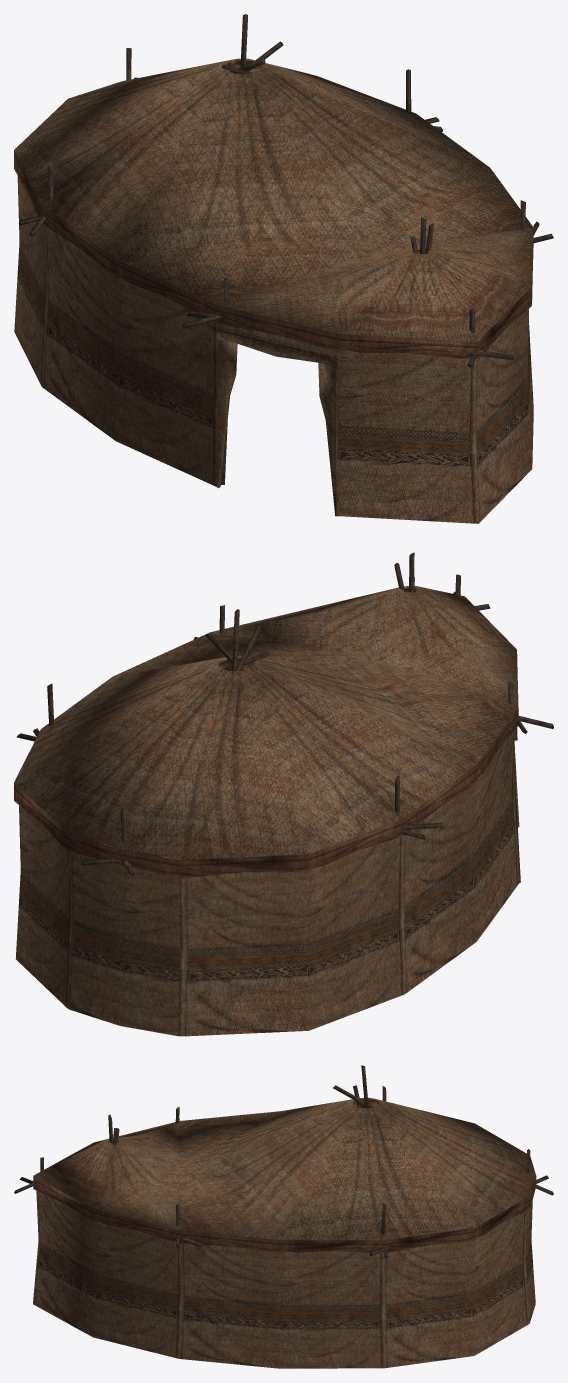
File: GS_VARANT_TENT_03_GALI.glb
3 renders of one model, top to bottom at view 1: azimuth 30°, elevation 25°; view 2: azimuth 150°, elevation 25°; view 3: azimuth 270°, elevation 25°, orthographic. The views are drawn at different scales.
Visible parts, largest first — view 1: Mesh; view 2: Mesh; view 3: Mesh.
Boxes of the visible parts, box(x1,y1,x2,y2) form: Mesh: box(14, 14, 553, 523); Mesh: box(14, 552, 553, 1036); Mesh: box(14, 1065, 553, 1368).
Bounding box in the file's own units: 10.54 × 8.03 × 16.46.
2 materials, 2 textured.
